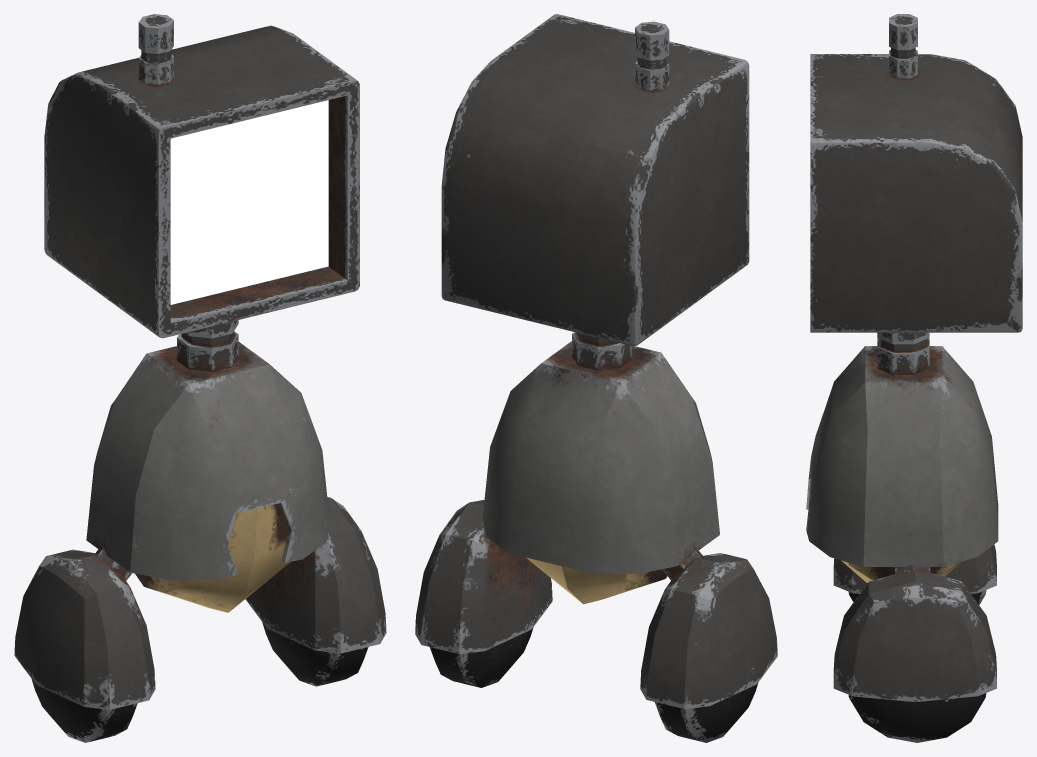
The model's file is Robot.glb.
3 views of the same model, side by side, from view 1: azimuth 30°, elevation 25°; view 2: azimuth 150°, elevation 25°; view 3: azimuth 270°, elevation 25° (orthographic). The views are drawn at different scales.
Visible parts, largest first — view 1: Robot_low; view 2: Robot_low; view 3: Robot_low.
Boxes of the visible parts, x1=… form: Robot_low: x1=14, y1=14, x2=386, y2=742; Robot_low: x1=415, y1=14, x2=777, y2=742; Robot_low: x1=806, y1=14, x2=1022, y2=742.
Size of the model in its own units: 0.7839 by 1.6 by 0.4887.
Materials: 1 (1 with a texture image).
